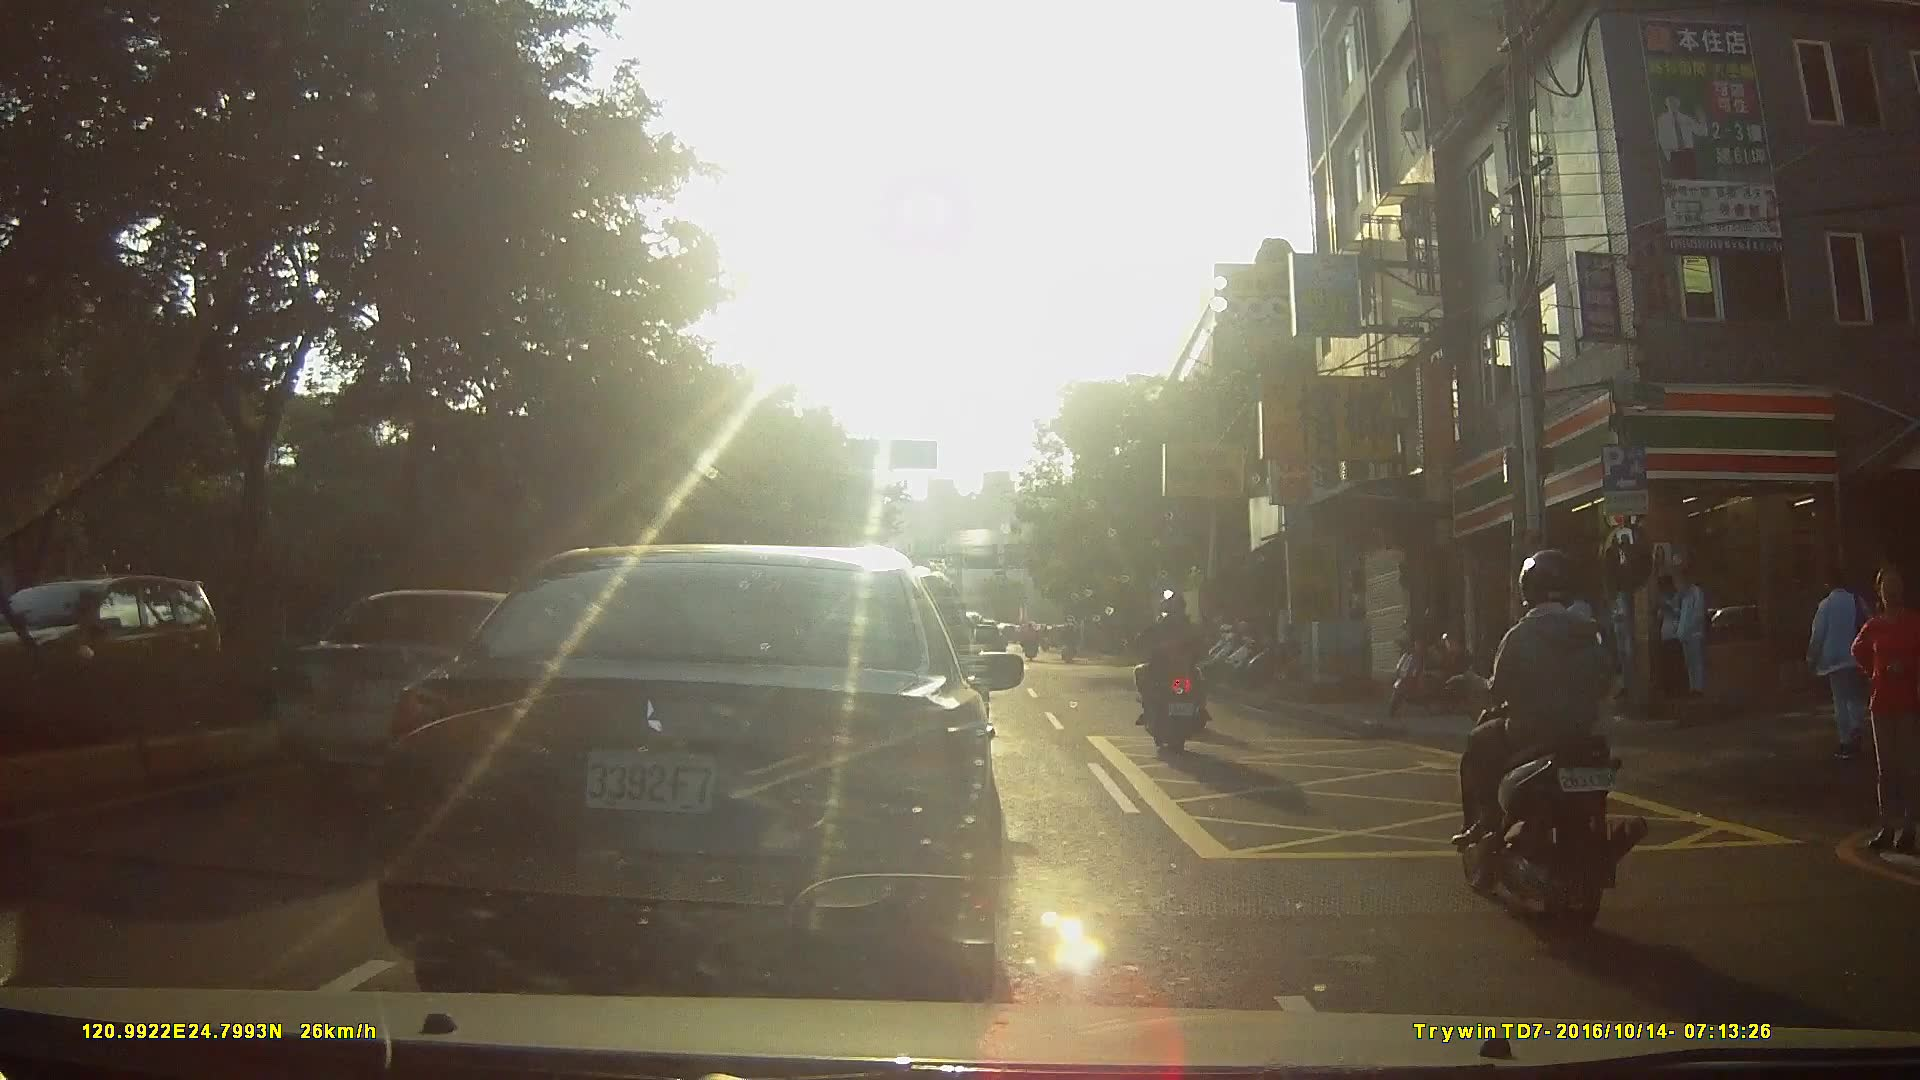pedestrian: (1846, 567, 1920, 854), (1803, 570, 1875, 767), (1557, 579, 1608, 715), (1610, 574, 1655, 708), (1665, 569, 1709, 699), (1653, 568, 1691, 708)
rider: (1452, 548, 1647, 951), (1137, 590, 1213, 758), (1059, 620, 1081, 665), (1022, 620, 1043, 666)
vehicle: (370, 540, 1038, 984), (258, 579, 623, 819), (2, 573, 236, 727)
